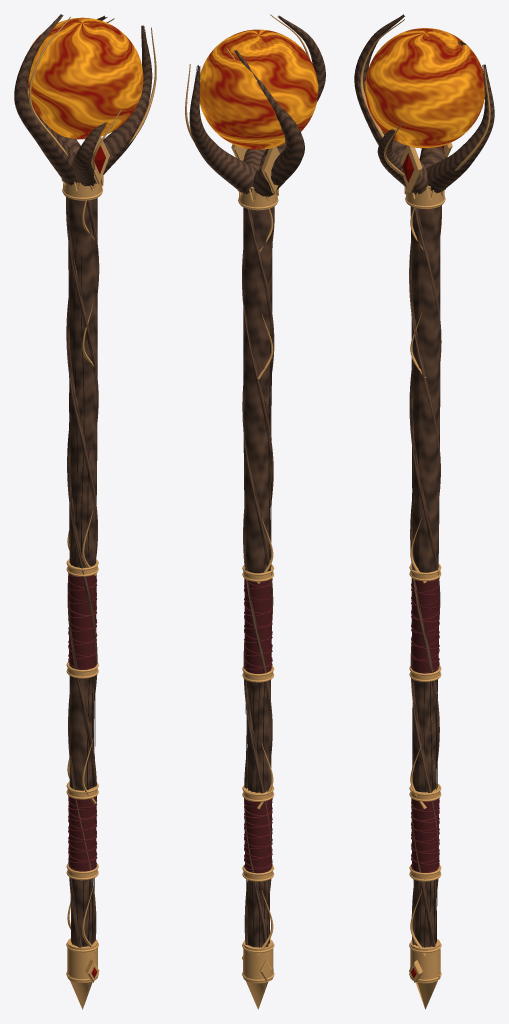
File: fire_staff.glb
The picture shows the model from 3 angles, left to right: view 1: azimuth 30°, elevation 25°; view 2: azimuth 210°, elevation 25°; view 3: azimuth 330°, elevation 25°; orthographic projection.
Parts seen in each view (by area): view 1: fire-carved-wood, fire-elemental-orb, fire-engraved-metal, fire-leather-wrap, fire-raised-wood-fibres, fire-grain-recesses, fire-leather-seam; view 2: fire-carved-wood, fire-elemental-orb, fire-engraved-metal, fire-leather-wrap, fire-raised-wood-fibres, fire-grain-recesses, fire-leather-seam; view 3: fire-carved-wood, fire-elemental-orb, fire-engraved-metal, fire-leather-wrap, fire-raised-wood-fibres, fire-grain-recesses, fire-leather-seam.
Part boxes in pixels (x1,y1,x2,y2): fire-carved-wood: [14, 14, 152, 947]; fire-elemental-orb: [27, 17, 143, 139]; fire-engraved-metal: [28, 16, 156, 1009]; fire-leather-wrap: [68, 573, 96, 871]; fire-raised-wood-fibres: [35, 15, 150, 947]; fire-grain-recesses: [68, 233, 95, 946]; fire-leather-seam: [68, 573, 97, 871]; fire-carved-wood: [189, 16, 325, 947]; fire-elemental-orb: [199, 29, 318, 149]; fire-engraved-metal: [185, 14, 309, 1009]; fire-leather-wrap: [244, 579, 271, 873]; fire-raised-wood-fibres: [193, 15, 279, 946]; fire-grain-recesses: [245, 265, 272, 947]; fire-leather-seam: [244, 578, 272, 870]; fire-carved-wood: [354, 14, 494, 947]; fire-elemental-orb: [365, 28, 484, 148]; fire-engraved-metal: [360, 19, 490, 1009]; fire-leather-wrap: [411, 578, 439, 872]; fire-raised-wood-fibres: [374, 15, 486, 946]; fire-grain-recesses: [411, 232, 437, 947]; fire-leather-seam: [411, 578, 439, 872].
Size of the model in its own units: 0.274 by 1.89 by 0.2212.
Materials: 8 (3 with a texture image).
